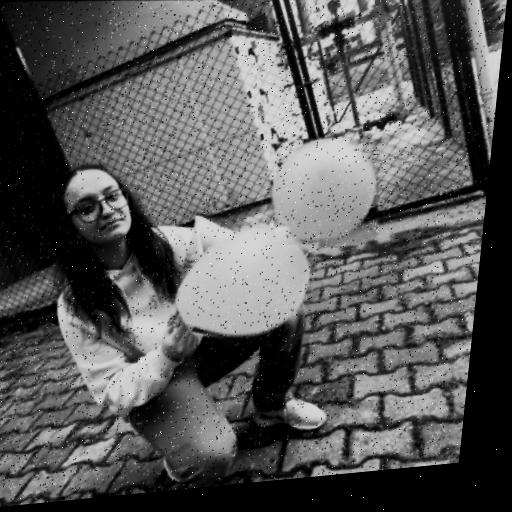balloon: (161, 201, 320, 352), (258, 117, 387, 247)
